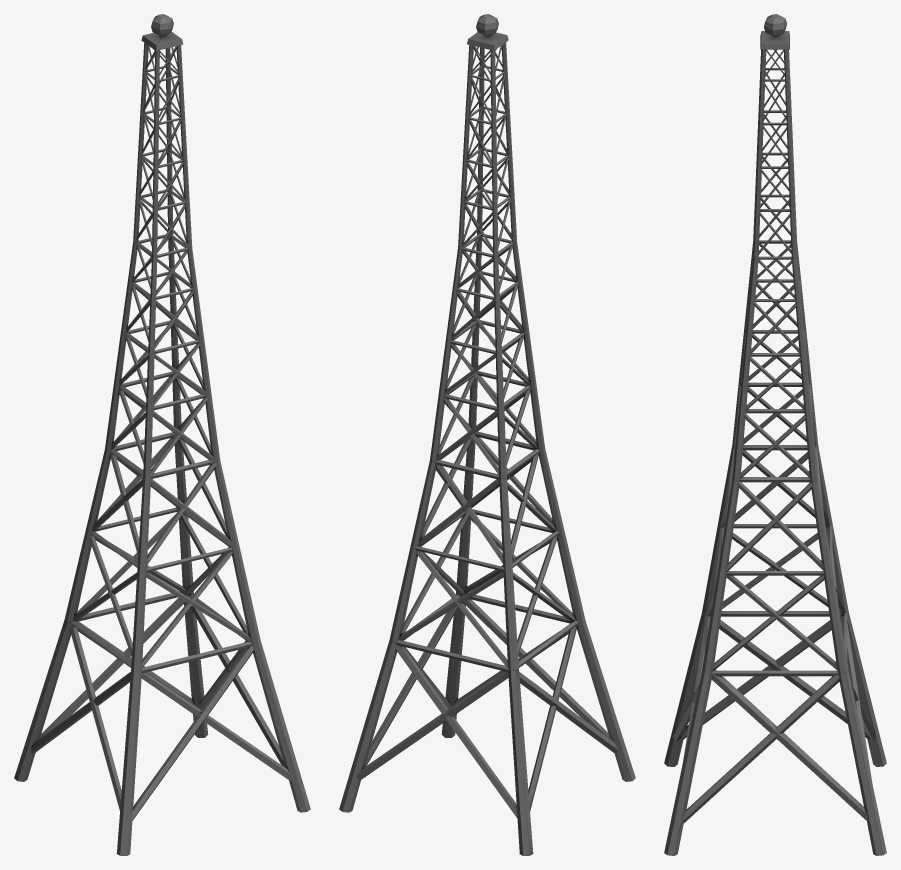
Rendered from RadioTower.obj.
3 renders of one model, left to right at view 1: azimuth 30°, elevation 25°; view 2: azimuth 150°, elevation 25°; view 3: azimuth 270°, elevation 25°, orthographic.
Parts seen in each view (by area): view 1: RadioTower_mesh; view 2: RadioTower_mesh; view 3: RadioTower_mesh.
Boxes of the visible parts, x1,y1,x2,y2 form: RadioTower_mesh: (14, 14, 310, 855); RadioTower_mesh: (339, 14, 635, 855); RadioTower_mesh: (664, 14, 886, 855).
Bounding box in the file's own units: 9.43 × 36.78 × 9.36.
Materials: 1 (1 with a texture image).
